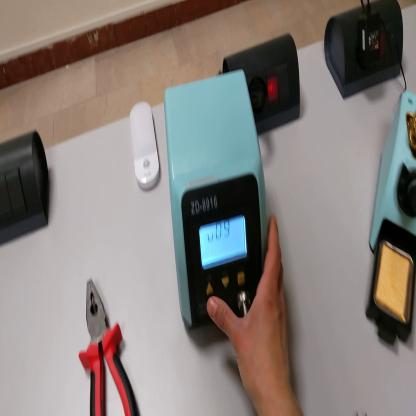hand: (207, 212, 293, 401)
pliers: (80, 281, 139, 415)
socket: (223, 37, 306, 134), (325, 3, 404, 100)
welder base: (365, 91, 416, 354)
welder probe tip: (407, 171, 416, 209)
welder station: (165, 65, 269, 327)
